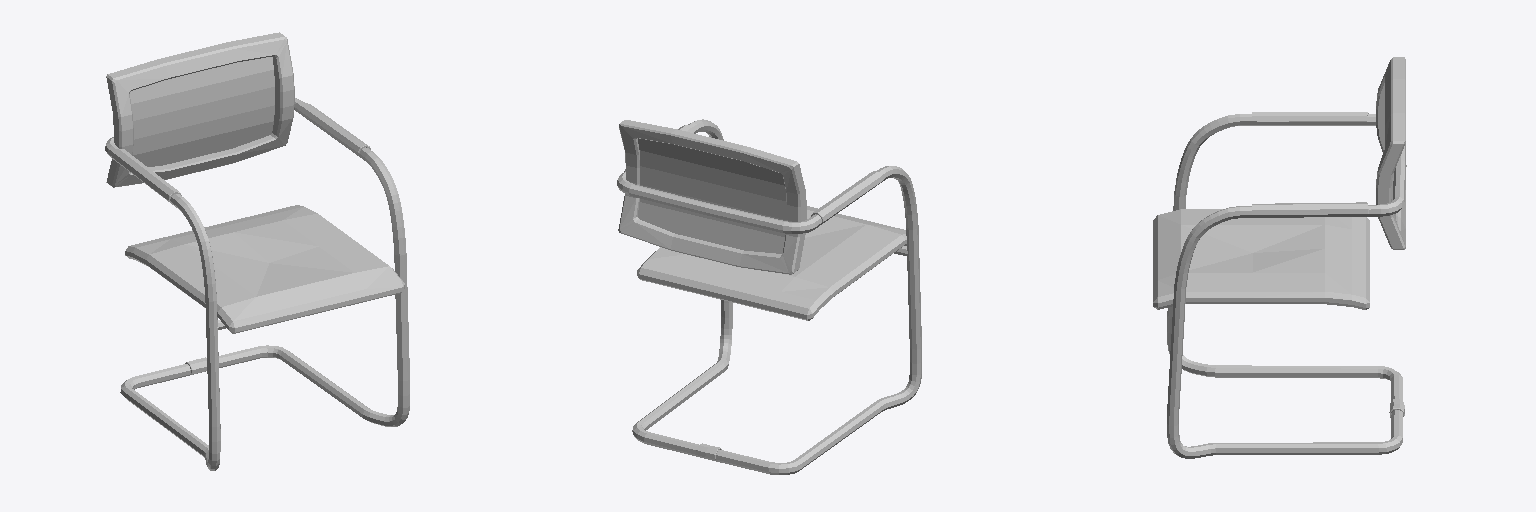
File: chair for the client.obj
3 views of the same model, side by side, from view 1: azimuth 30°, elevation 25°; view 2: azimuth 150°, elevation 25°; view 3: azimuth 270°, elevation 25° (orthographic).
Visible parts, largest first — view 1: __chair_for_the_client; view 2: __chair_for_the_client; view 3: __chair_for_the_client.
Part boxes in pixels (x1,y1,x2,y2): __chair_for_the_client: (105,32,409,470); __chair_for_the_client: (617,119,921,474); __chair_for_the_client: (1153,57,1406,458).
Bounding box in the file's own units: 56.51 × 85 × 61.